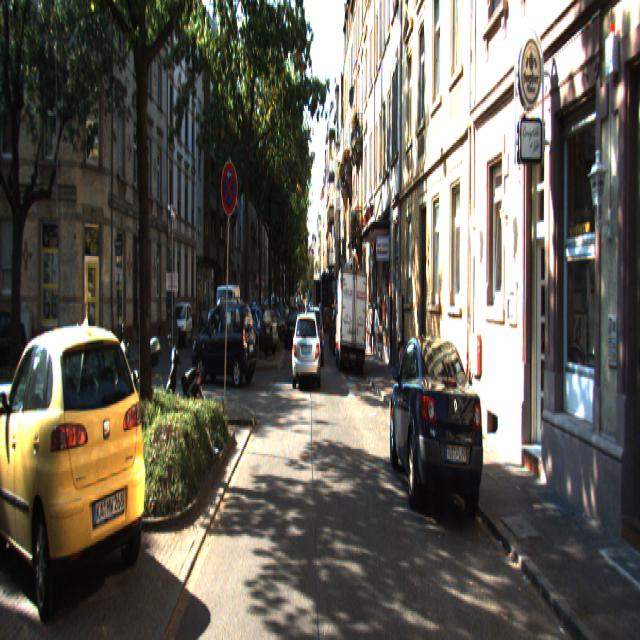Car: (0, 314, 154, 636), (386, 324, 492, 529), (190, 297, 258, 389), (232, 304, 274, 358), (292, 313, 321, 391), (304, 306, 324, 366)
DontCare: (266, 294, 294, 351)
Misc: (111, 324, 166, 438), (164, 326, 206, 438)
Van: (334, 264, 368, 367)
